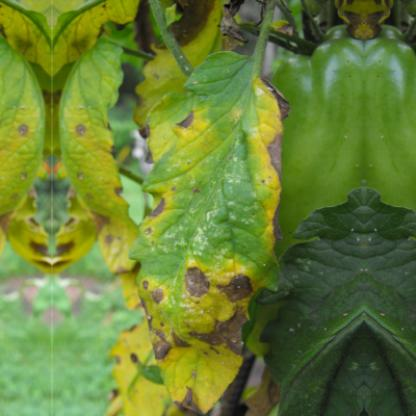Early-Blight: (136, 241, 276, 369), (240, 66, 318, 196), (61, 100, 131, 244), (0, 100, 43, 243), (128, 176, 184, 230), (164, 104, 212, 154), (160, 376, 210, 414), (249, 375, 291, 415), (324, 0, 361, 40), (366, 0, 403, 40)
